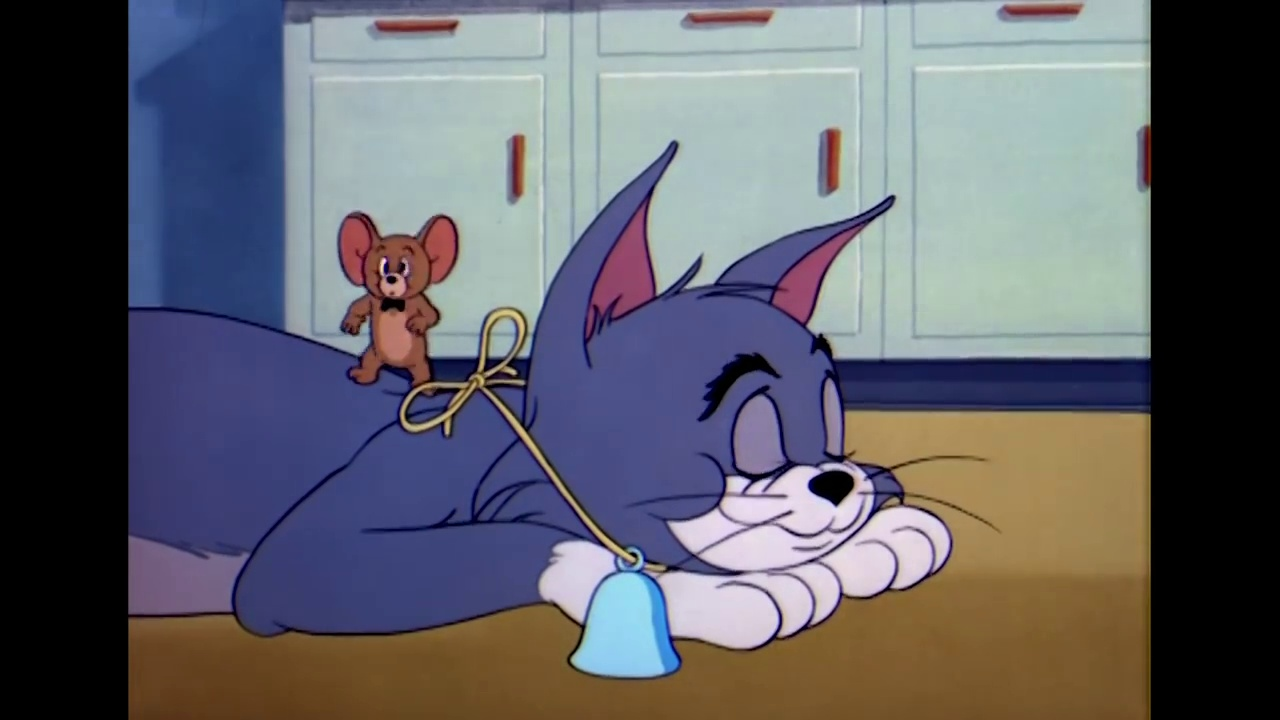tom: (517, 137, 900, 575)
